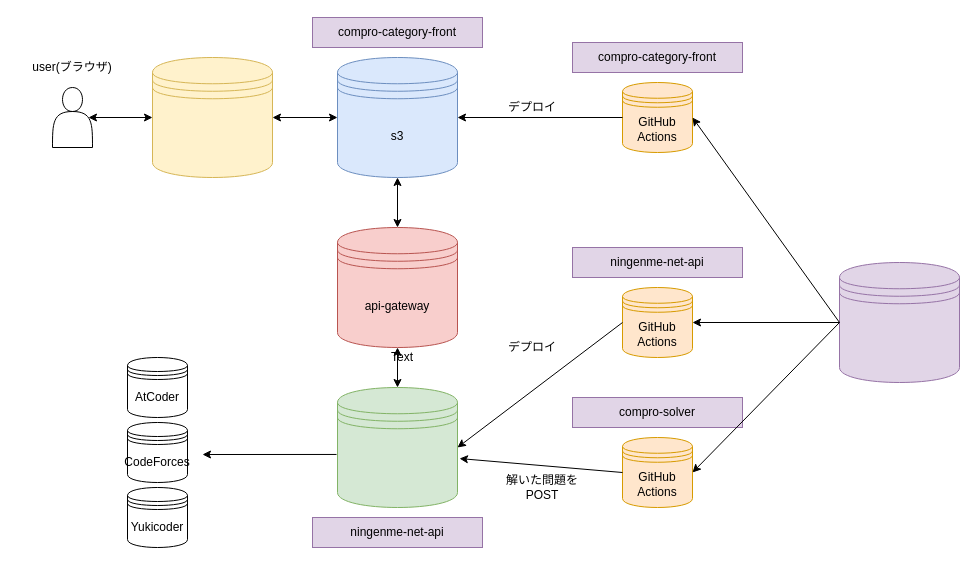
The diagram is 977 pixels wide and 565 high, and some of its shapes have lost their labels. Here are the shapes that lost their labels. From the top down, the centre of each, then its label:
At (212,117): "cloud front".
At (899,322): "GitHub".
At (397,447): "ec2".
